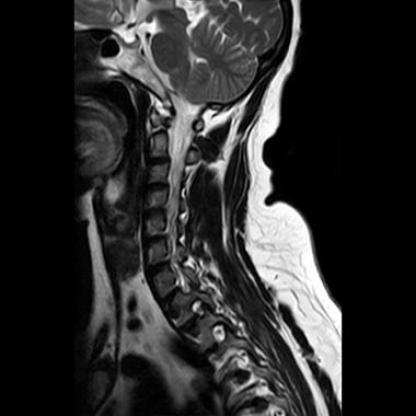Degenerative Disc Diseaserotation: (144, 229, 168, 251), (143, 206, 166, 220)
Disc Bulgerotation: (144, 229, 168, 249), (144, 207, 166, 220), (147, 182, 169, 193), (149, 156, 169, 167)
Osteophytesrotation: (143, 233, 168, 251)
